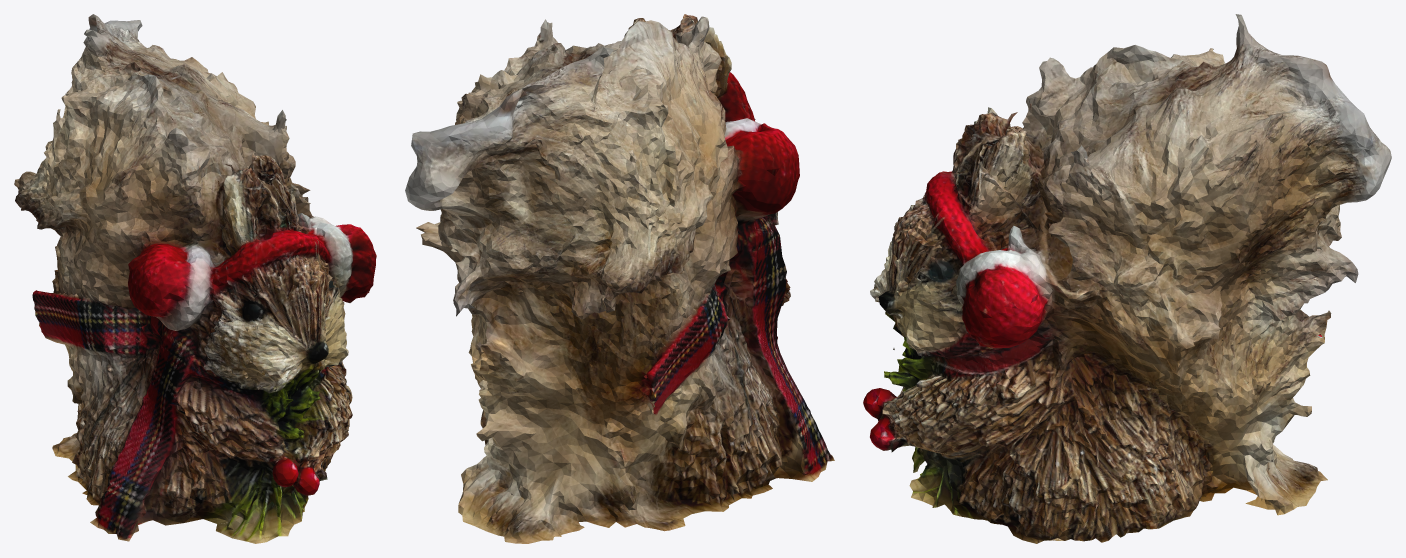
Rendered from sqrl.glb.
3 renders of one model, left to right at view 1: azimuth 30°, elevation 25°; view 2: azimuth 150°, elevation 25°; view 3: azimuth 270°, elevation 25°, orthographic. The views are drawn at different scales.
Visible parts, largest first — view 1: Mesh_0; view 2: Mesh_0; view 3: Mesh_0.
Boxes of the visible parts, box(x1,y1,x2,y2) form: Mesh_0: box(14, 14, 376, 543); Mesh_0: box(405, 14, 834, 543); Mesh_0: box(863, 14, 1391, 543).
Size of the model in its own units: 0.8772 by 1.29 by 1.36.
1 material, 1 textured.
